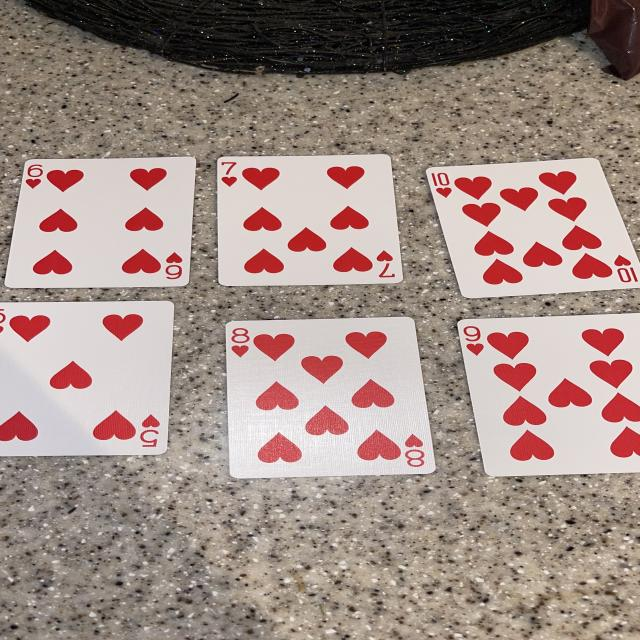10 of hearts: (427, 159, 640, 298)
5 of hearts: (0, 301, 173, 456)
6 of hearts: (4, 156, 196, 288)
7 of hearts: (216, 154, 402, 286)
8 of hearts: (227, 318, 436, 479)
9 of hearts: (458, 314, 640, 476)
